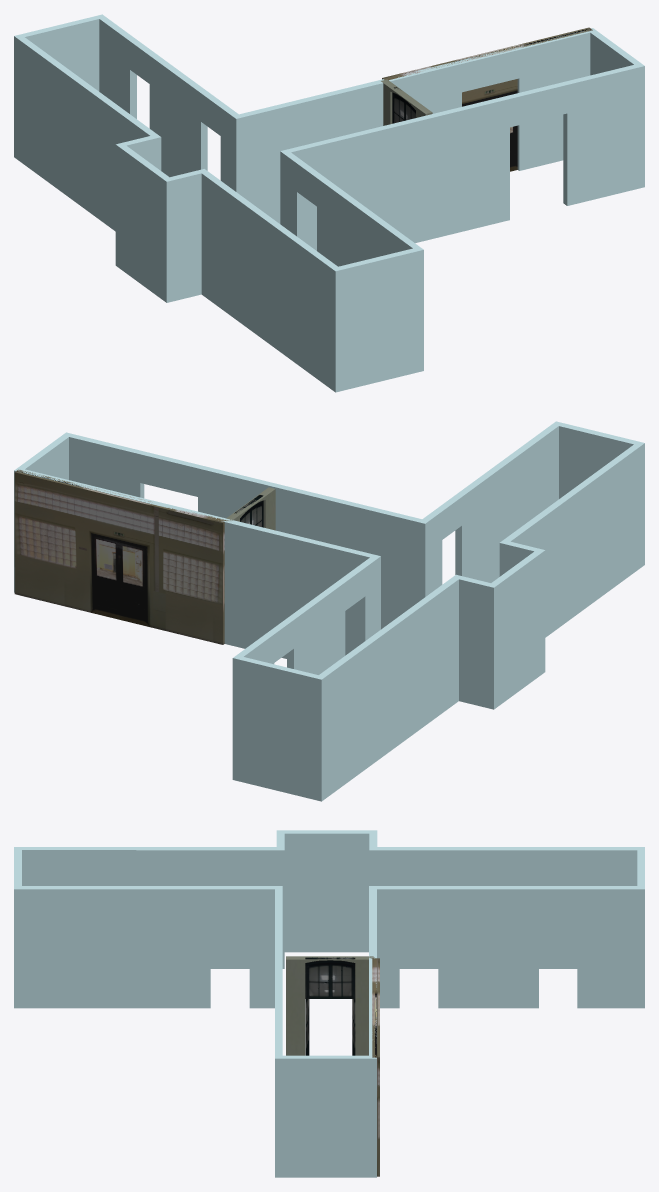
File: newBuilding.gltf
3 views of the same model, one above another, from view 1: azimuth 30°, elevation 25°; view 2: azimuth 150°, elevation 25°; view 3: azimuth 270°, elevation 25° (orthographic). The views are drawn at different scales.
Visible parts, largest first — view 1: Line001, Box017, Box016, Door002; view 2: Line001, Box017, Box016; view 3: Line001, Box016, Door002, Box017.
Part boxes in pixels (x1,y1,x2,y2): Line001: (14,14,644,392); Box017: (382,27,592,171); Box016: (381,79,432,125); Door002: (392,87,415,123); Line001: (14,421,644,801); Box017: (14,469,226,644); Box016: (225,487,275,530); Line001: (14,830,644,1177); Box016: (286,956,374,1055); Door002: (305,957,355,998); Box017: (372,958,379,1176).
Bounding box in the file's own units: 14.01 × 3.4 × 16.35.
4 materials, 3 textured.
